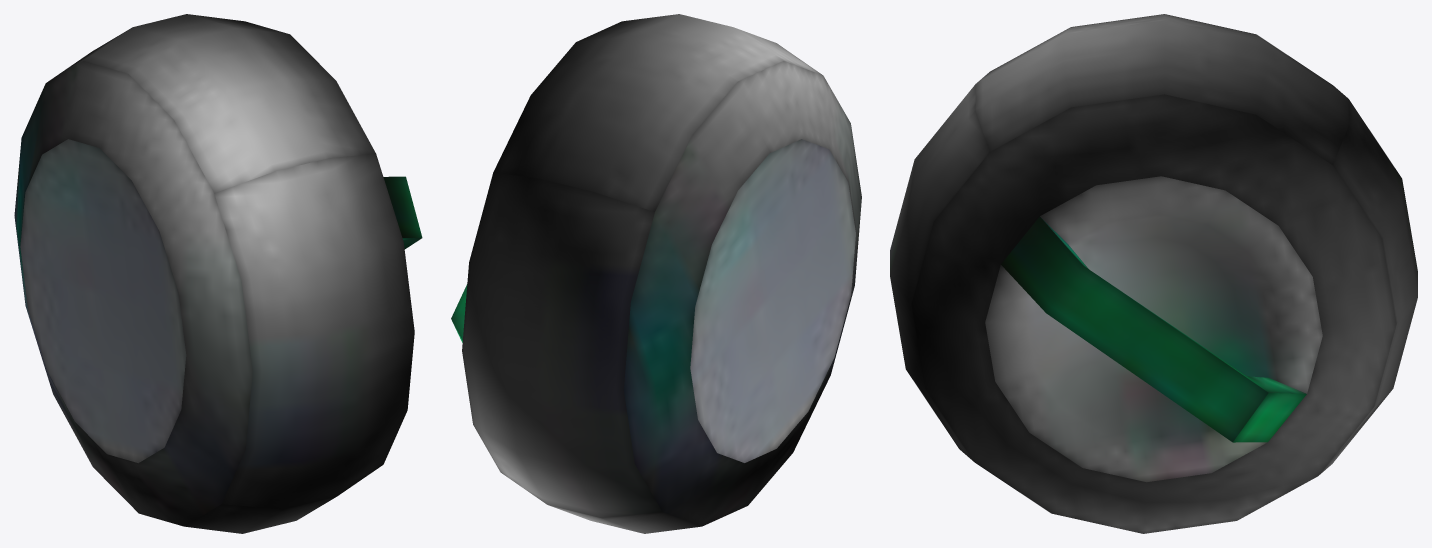
File: rearleft2.obj
3 renders of one model, left to right at view 1: azimuth 30°, elevation 25°; view 2: azimuth 150°, elevation 25°; view 3: azimuth 270°, elevation 25°, orthographic.
Parts seen in each view (by area): view 1: Object015; view 2: Object015; view 3: Object015.
Boxes of the visible parts, x1,y1,x2,y2 form: Object015: [14, 14, 422, 533]; Object015: [451, 14, 861, 533]; Object015: [890, 14, 1417, 533].
Bounding box in the file's own units: 5.4 × 9.07 × 9.07.
1 material, 1 textured.
